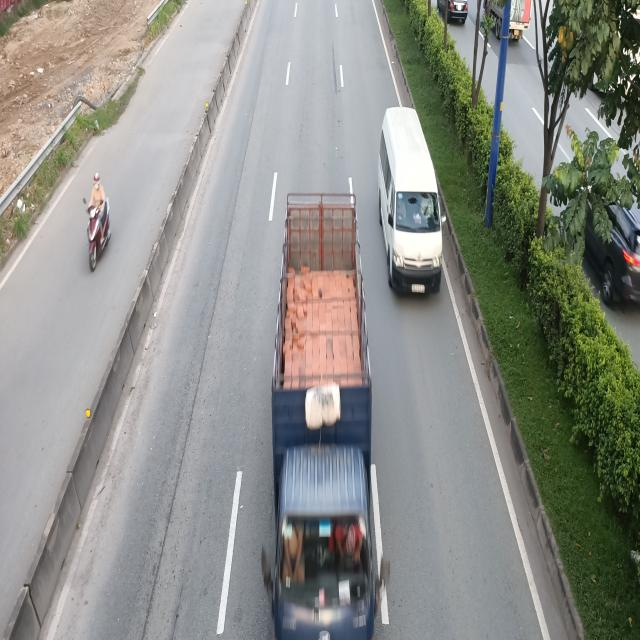truck: (258, 192, 383, 640)
van: (379, 109, 446, 298)
